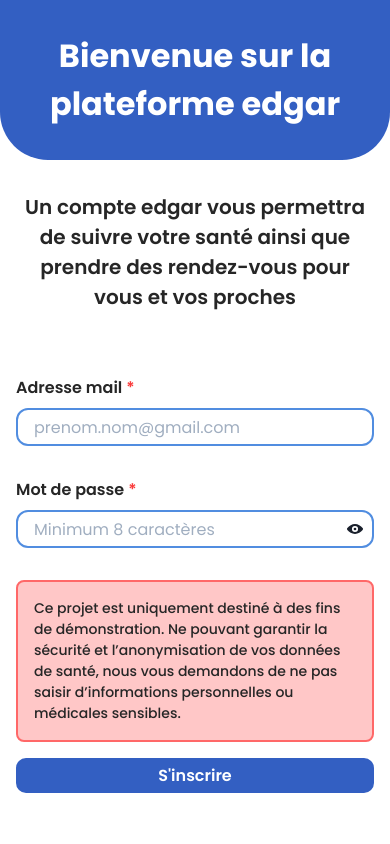
Test: Signup Page tests - Mobile › Working page › Error states › Not real email address
Type "prenom.nomtest.fr" into the field with id "edgar-signupPage-formEmail-input".
click(195, 427); type("prenom.nomtest.fr")  # box 16,408 -> 374,446
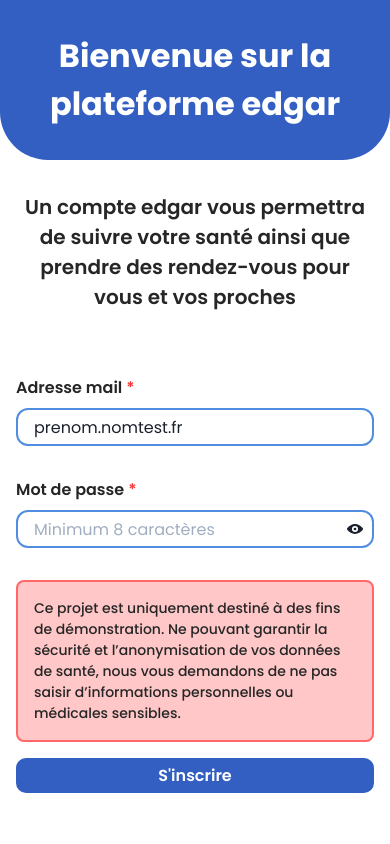
Type "testtest" into the field with id "edgar-signupPage-formEmail-input".
click(195, 427); type("testtest")  # box 16,408 -> 374,446
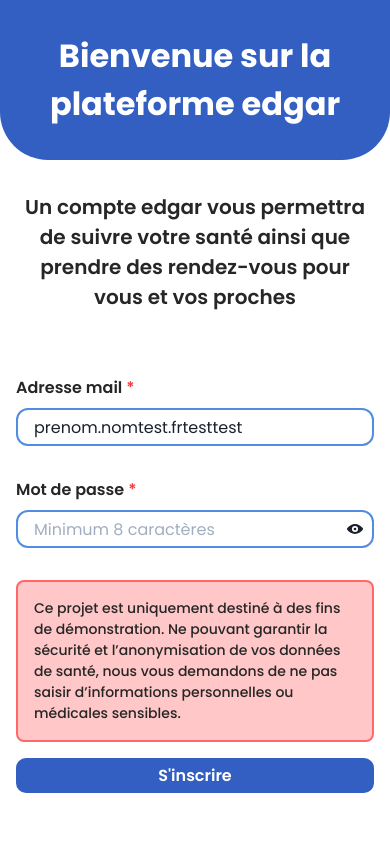
Click the button with id "edgar-signupPage-form-button".
click(195, 776)  # box 16,758 -> 374,793
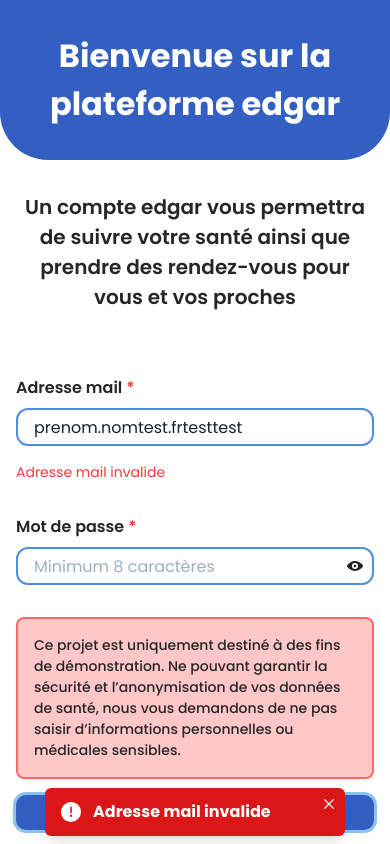
Expected: the text with id "edgar-signupPage-formEmailError-text" reads "Adresse mail invalide", 16,462 -> 165,483
